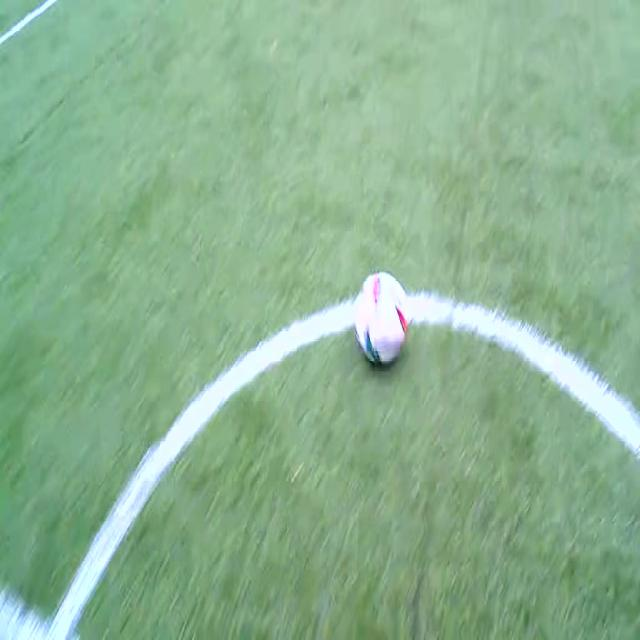ball: (354, 272, 407, 363)
